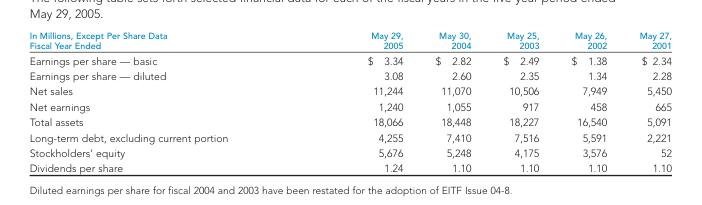table: (28, 29, 670, 173)
table column: (28, 29, 297, 173), (297, 29, 418, 173), (418, 29, 486, 173), (486, 29, 554, 173), (554, 29, 622, 173), (622, 29, 670, 173)
table column header: (28, 29, 670, 52)
table row: (28, 29, 670, 52), (28, 67, 670, 83), (28, 113, 670, 129), (28, 144, 670, 160), (28, 52, 670, 67), (28, 83, 670, 98), (28, 98, 670, 113), (28, 129, 670, 144), (28, 160, 670, 173)
